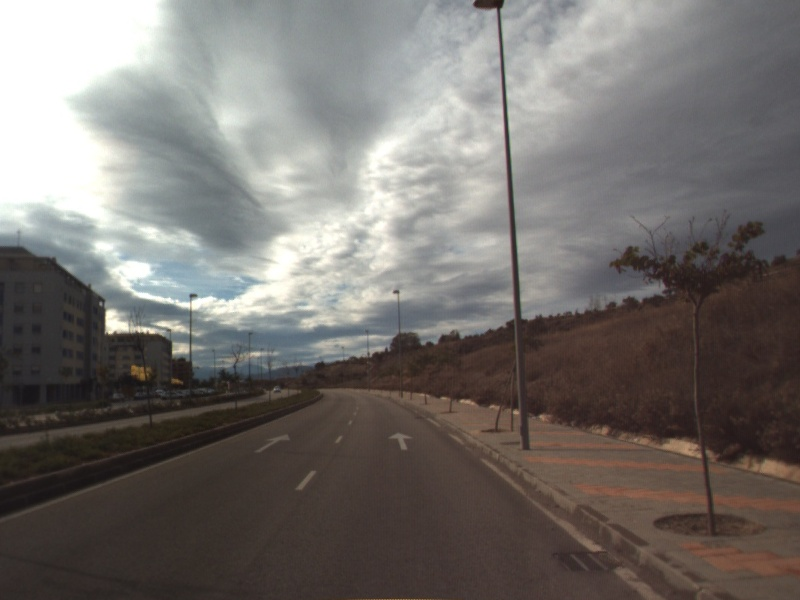STRAIGHT: (251, 431, 292, 455), (386, 430, 416, 452)
